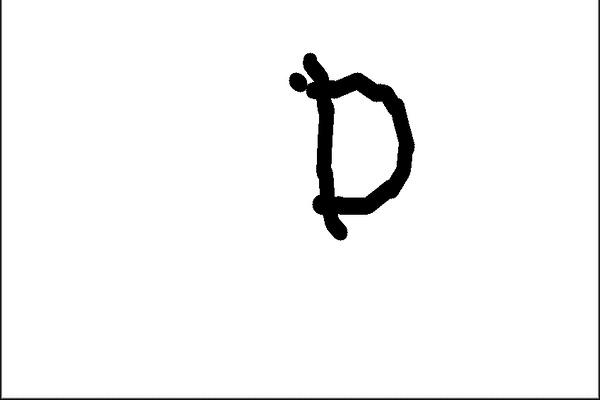D: (282, 50, 420, 246)
